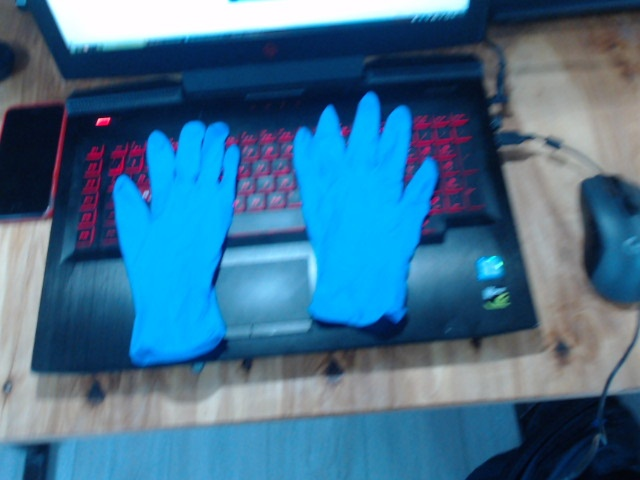medical_glove: (293, 91, 437, 326), (113, 119, 239, 363)
